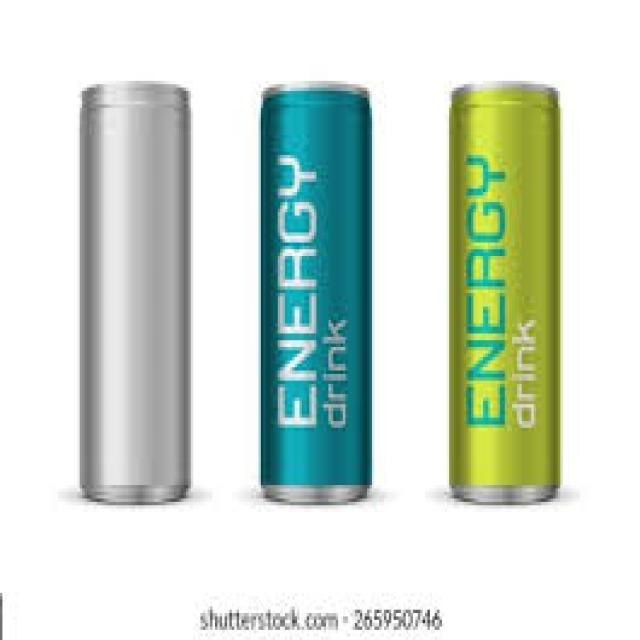Cans: (251, 74, 389, 519), (68, 67, 202, 512), (440, 74, 574, 519)
